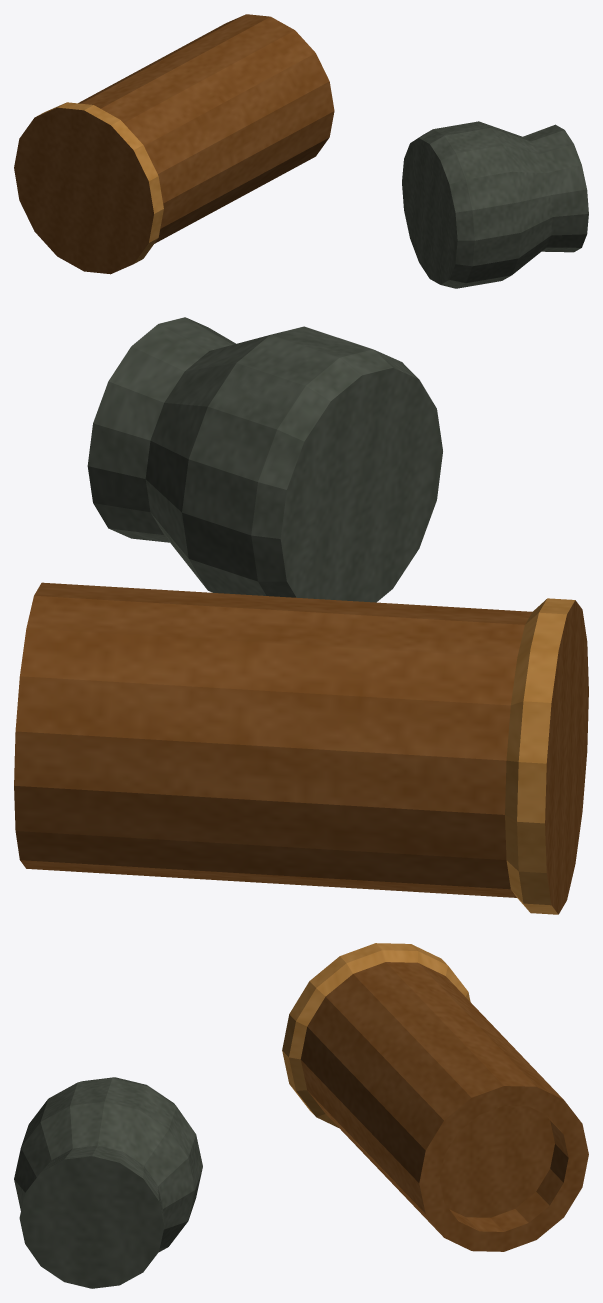
File: AuxAmmoHeavyPistolBody.fbx
The picture shows the model from 3 angles, top to bottom: view 1: azimuth 30°, elevation 25°; view 2: azimuth 150°, elevation 25°; view 3: azimuth 270°, elevation 25°; orthographic projection. The views are drawn at different scales.
Parts seen in each view (by area): view 1: AuxAmmoHeavyPistolBody_export; view 2: AuxAmmoHeavyPistolBody_export; view 3: AuxAmmoHeavyPistolBody_export.
Part boxes in pixels (x1,y1,x2,y2): AuxAmmoHeavyPistolBody_export: (14, 14, 588, 288); AuxAmmoHeavyPistolBody_export: (14, 317, 588, 914); AuxAmmoHeavyPistolBody_export: (14, 943, 588, 1288).
Bounding box in the file's own units: 4.48 × 5.03 × 1.76.
